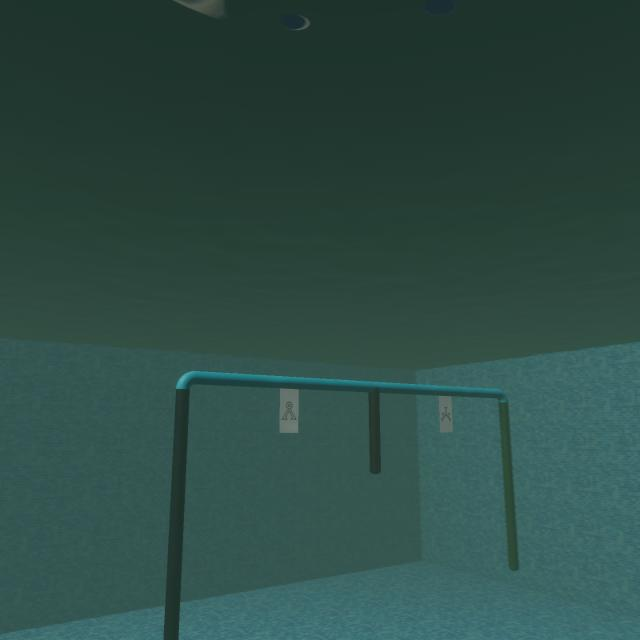gate: (164, 369, 521, 640)
